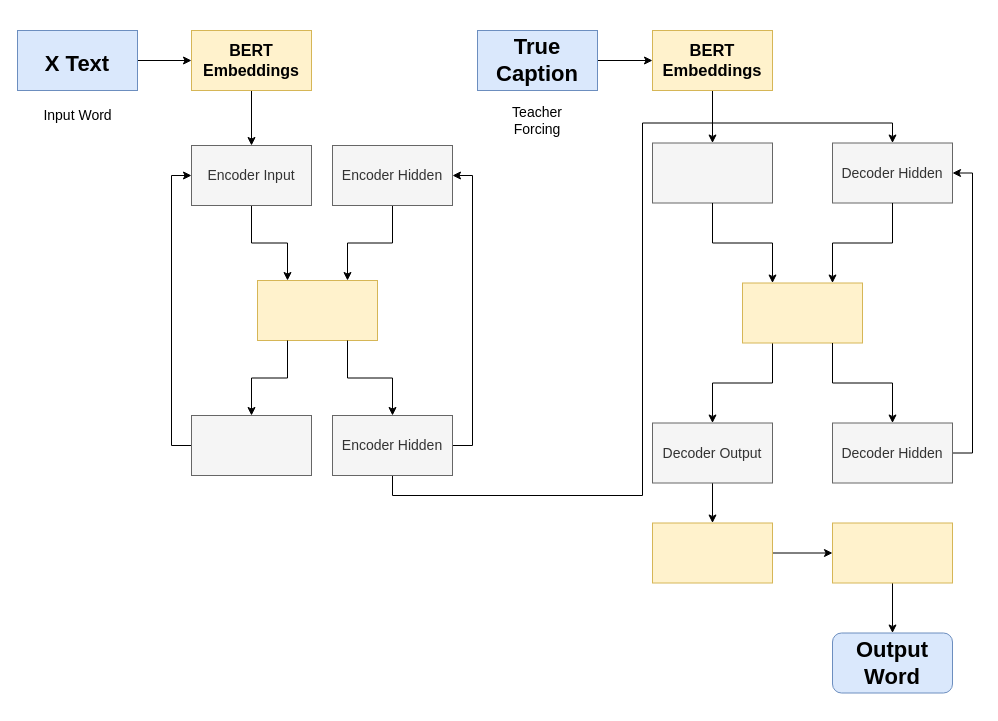
This 998x721 diagram has some shape labels left out. The shapes that lost their labels are listed below. From the top down, each one's centre as x and y in pixels, then its label:
At (x=712, y=172): "Decoder Input".
At (x=317, y=310): "ENCODER GRU".
At (x=802, y=312): "DECODER GRU".
At (x=251, y=445): "Encoder Output".
At (x=712, y=552): "Linear".
At (x=892, y=552): "Log SoftMax".
